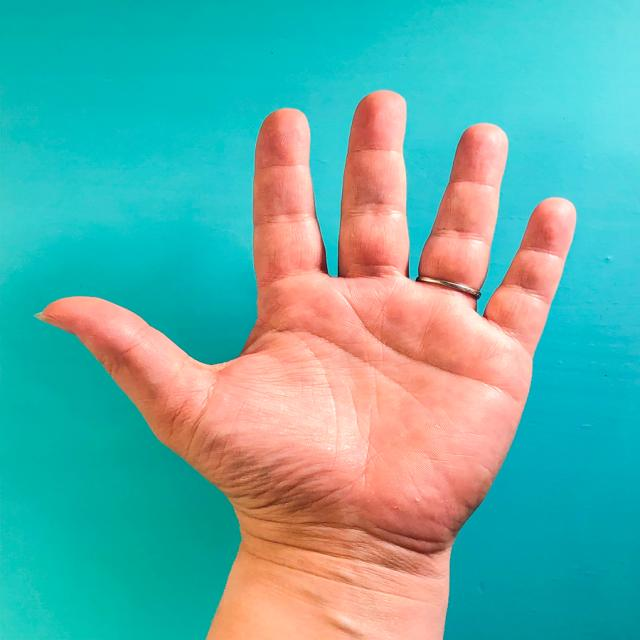hand palm open: (41, 86, 575, 539)
